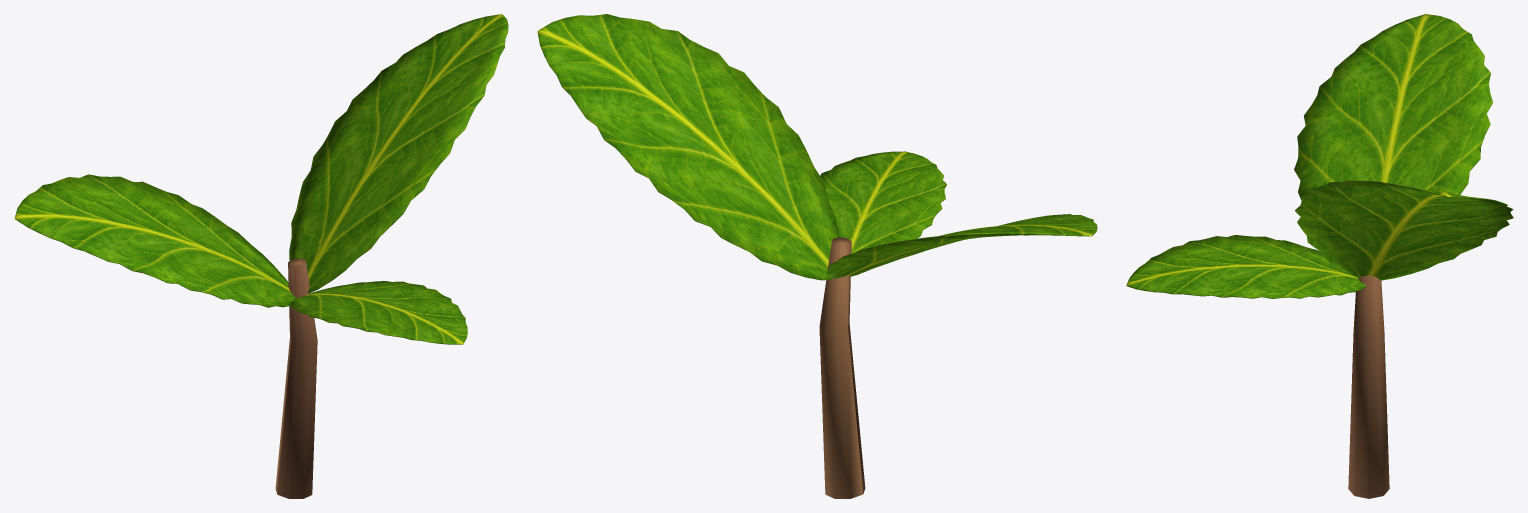
Rendered from NP_Raspberry_Sprout.fbx.
The picture shows the model from 3 angles, left to right: view 1: azimuth 30°, elevation 25°; view 2: azimuth 150°, elevation 25°; view 3: azimuth 270°, elevation 25°; orthographic projection. The views are drawn at different scales.
Visible parts, largest first — view 1: NP_Raspberry_Sprout; view 2: NP_Raspberry_Sprout; view 3: NP_Raspberry_Sprout.
Part boxes in pixels (x1=…): NP_Raspberry_Sprout: x1=14, y1=14, x2=508, y2=498; NP_Raspberry_Sprout: x1=537, y1=14, x2=1097, y2=498; NP_Raspberry_Sprout: x1=1126, y1=14, x2=1513, y2=498.
Bounding box in the file's own units: 30.17 × 22.81 × 18.77.
